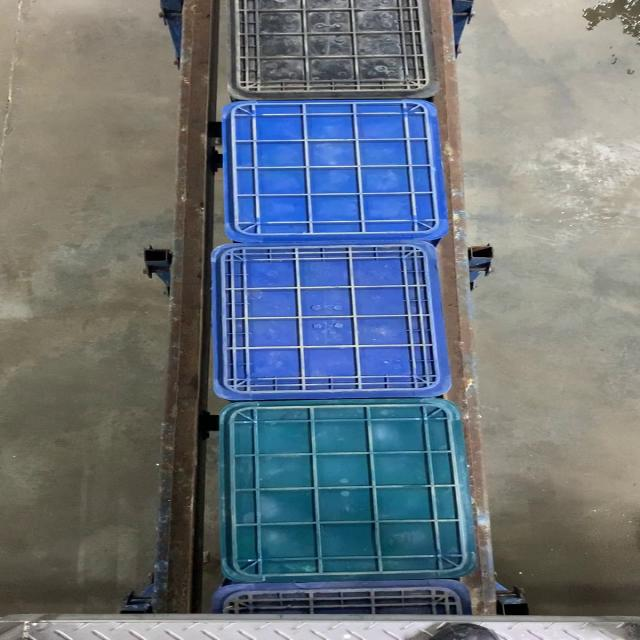Box: (210, 401, 482, 581), (210, 245, 450, 397), (221, 99, 451, 243)
